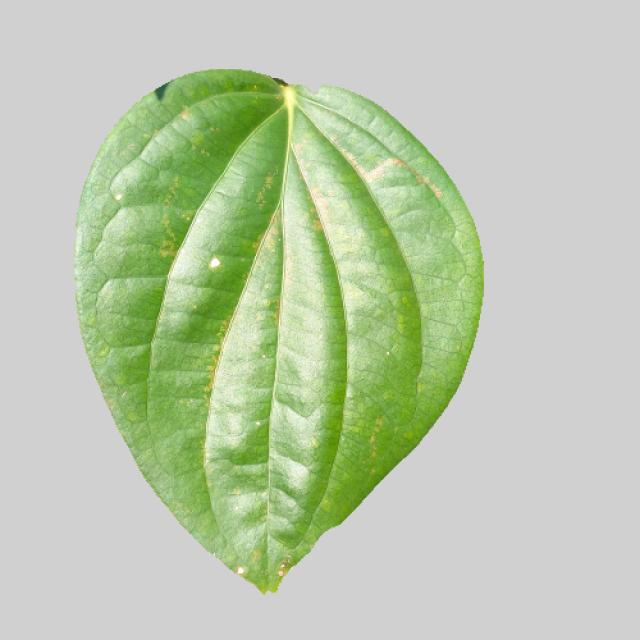healthy: (66, 64, 487, 593)
